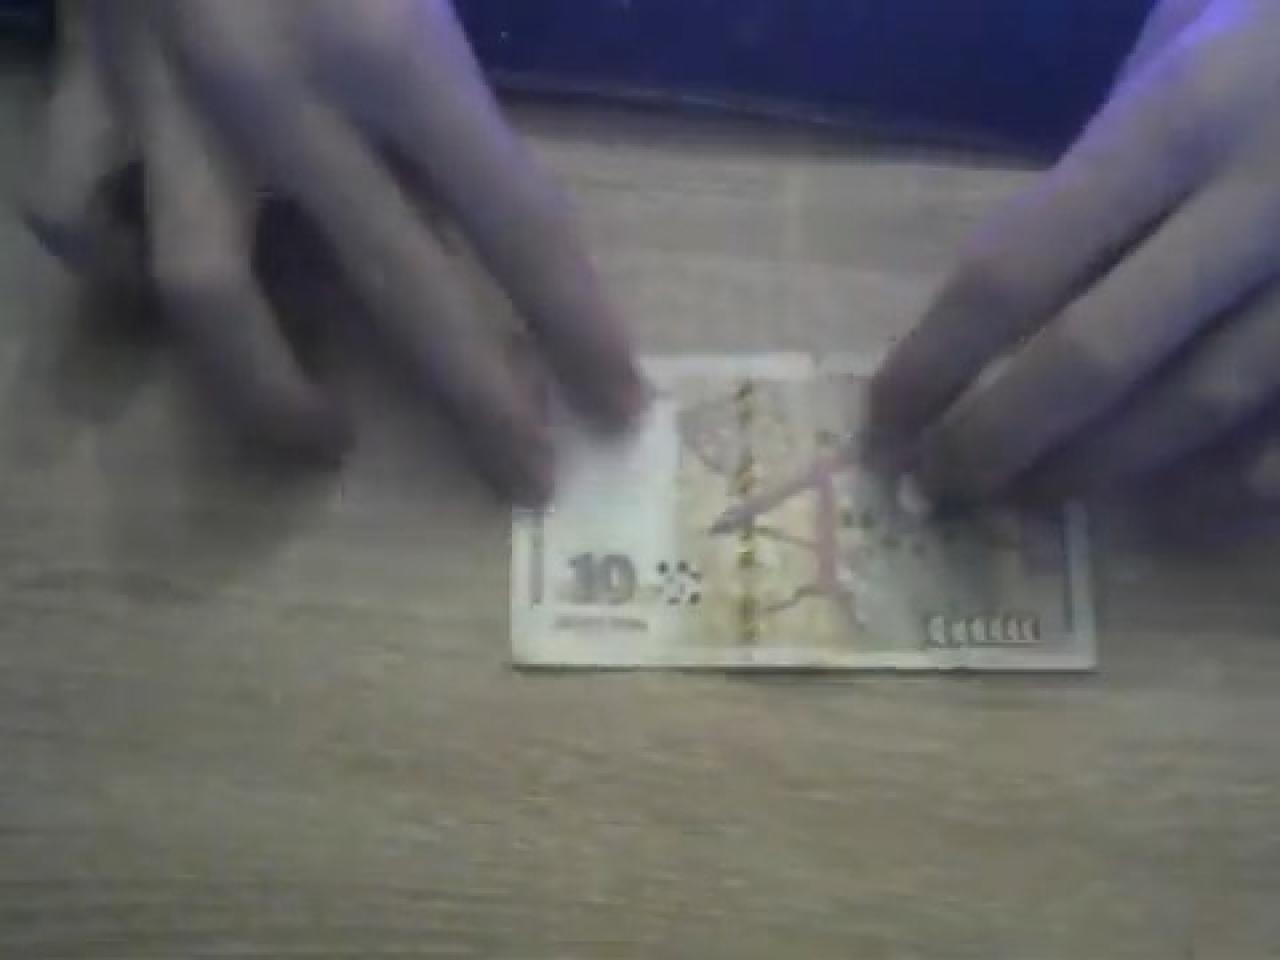10leva: (509, 165, 1099, 677)
